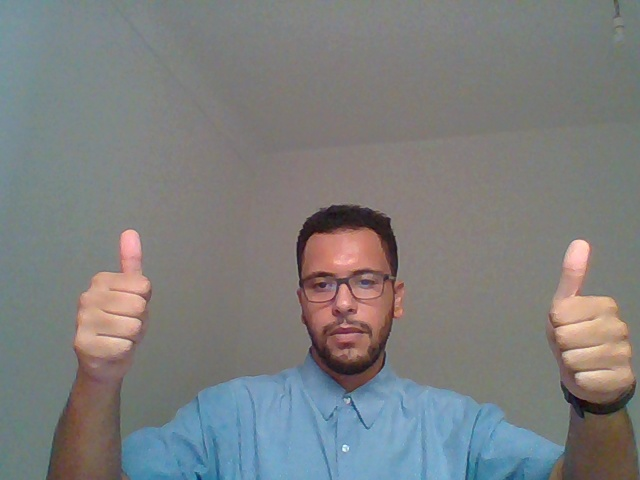ok: (506, 219, 640, 464), (42, 197, 170, 426)
